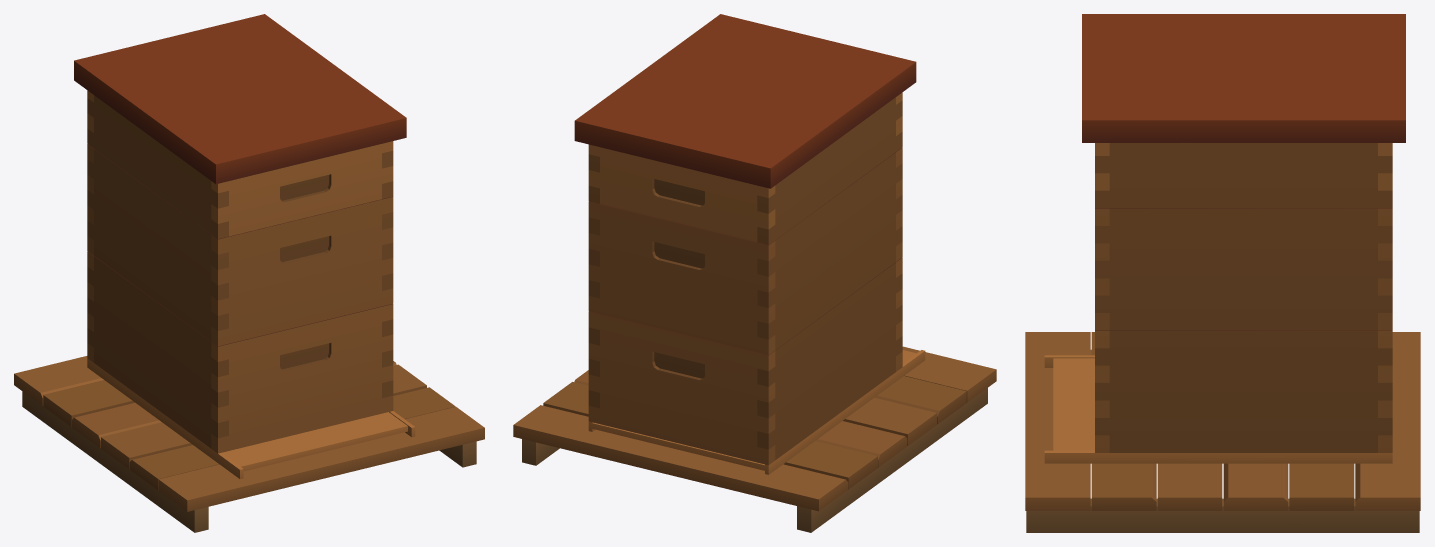
Rendered from Bld_Beehive_04.obj.
The picture shows the model from 3 angles, left to right: view 1: azimuth 30°, elevation 25°; view 2: azimuth 150°, elevation 25°; view 3: azimuth 270°, elevation 25°; orthographic projection. The views are drawn at different scales.
Visible parts, largest first — view 1: Bld_Beehive_04; view 2: Bld_Beehive_04; view 3: Bld_Beehive_04.
Boxes of the visible parts, x1=… form: Bld_Beehive_04: x1=14, y1=14, x2=484, y2=532; Bld_Beehive_04: x1=513, y1=14, x2=996, y2=532; Bld_Beehive_04: x1=1025, y1=14, x2=1420, y2=532.
Bounding box in the file's own units: 1.05 × 1.15 × 1.06.
1 material, 1 textured.
